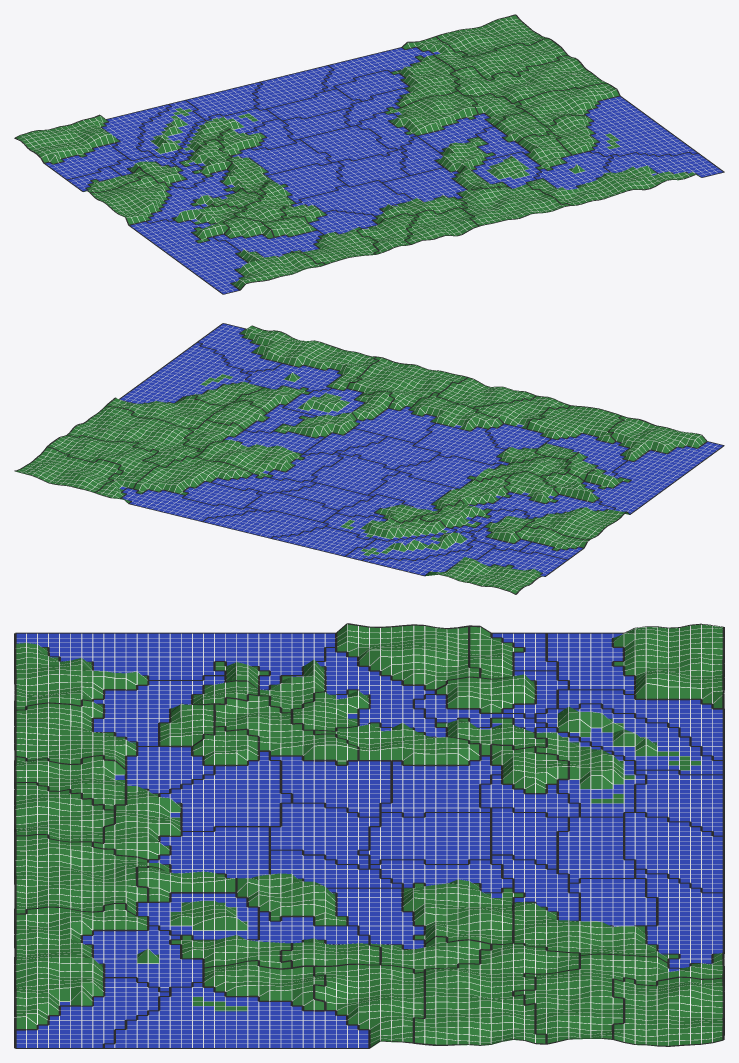
Rendered from saga_map.glb.
3 views of the same model, one above another, from view 1: azimuth 30°, elevation 25°; view 2: azimuth 150°, elevation 25°; view 3: azimuth 270°, elevation 25° (orthographic). The views are drawn at different scales.
Visible parts, largest first — view 1: Grid.001, Region_Borders_Thin, Region_Borders_Thick; view 2: Grid.001, Region_Borders_Thin, Region_Borders_Thick; view 3: Grid.001, Region_Borders_Thin, Region_Borders_Thick.
Part boxes in pixels (x1,y1,x2,y2): Grid.001: (16, 15, 722, 293); Region_Borders_Thin: (18, 17, 720, 292); Region_Borders_Thick: (14, 14, 724, 294); Grid.001: (15, 323, 722, 593); Region_Borders_Thin: (19, 325, 719, 591); Region_Borders_Thick: (14, 323, 724, 594); Grid.001: (16, 624, 723, 1047); Region_Borders_Thin: (15, 624, 722, 1047); Region_Borders_Thick: (14, 623, 724, 1048).
Size of what is drawn, in the model's own units: 64.67 by 0.9674 by 46.67.
